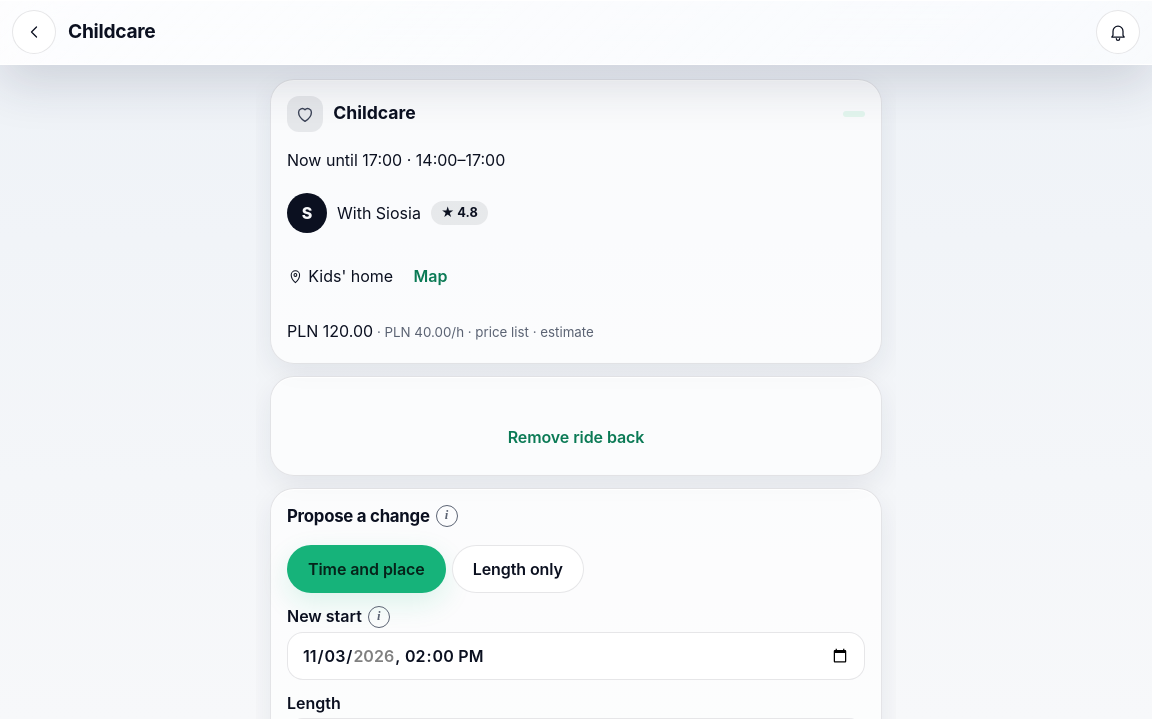
Scenario: 2.14.2 a ride under way is a warning (FR-346, V97) › the sheet warns about my ride back already on its way when a live session gets longer; Send stays on, no new pickup for it
Later steps or results of the test are not shown.
Click the button with test id "change-mode-length": (518, 570) [452, 546, 584, 594]
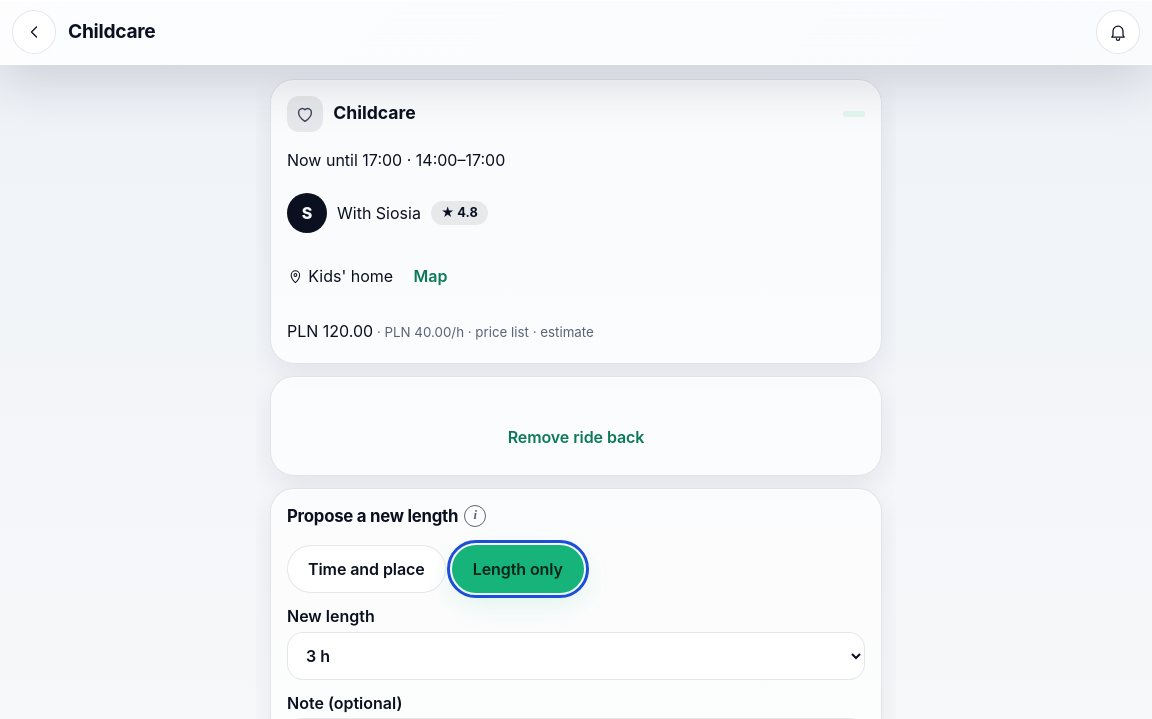
Select "4 h" in the dropdown with test id "change-minutes": (576, 656) [287, 632, 865, 680]
(page scrolled)
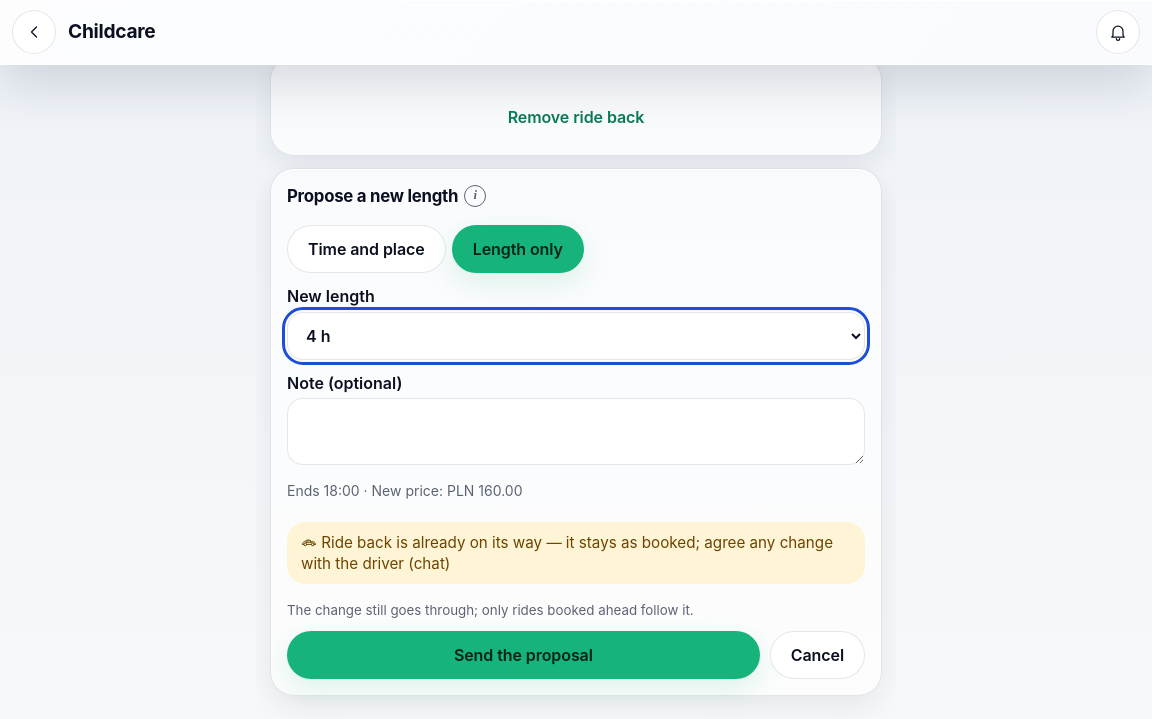
Now the element with test id "change-underway-back" shows "Ride back is already on its way — it stays as booked; agree any change with the driver (chat)", box [301, 532, 833, 573]
Now the element with test id "change-underway" shows "The change still goes through; only rides booked ahead follow it.", box [287, 602, 694, 618]
Now the button with test id "change-send" is enabled, box [287, 631, 760, 679]
